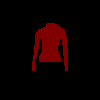maglione: (32, 22, 68, 71)
